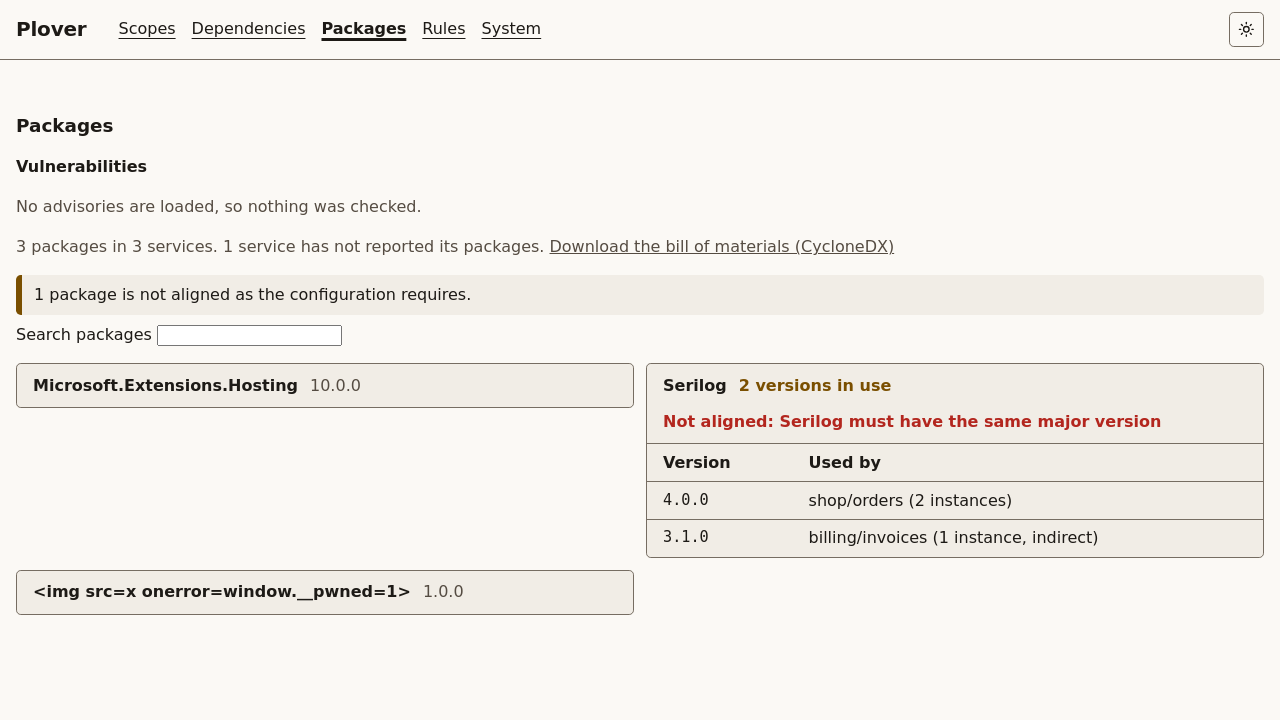
Test: the packages view › says so when nothing matches the search
Type "zzz" into the search field labelled "Search packages" at (250, 336), box [157,325,342,346]
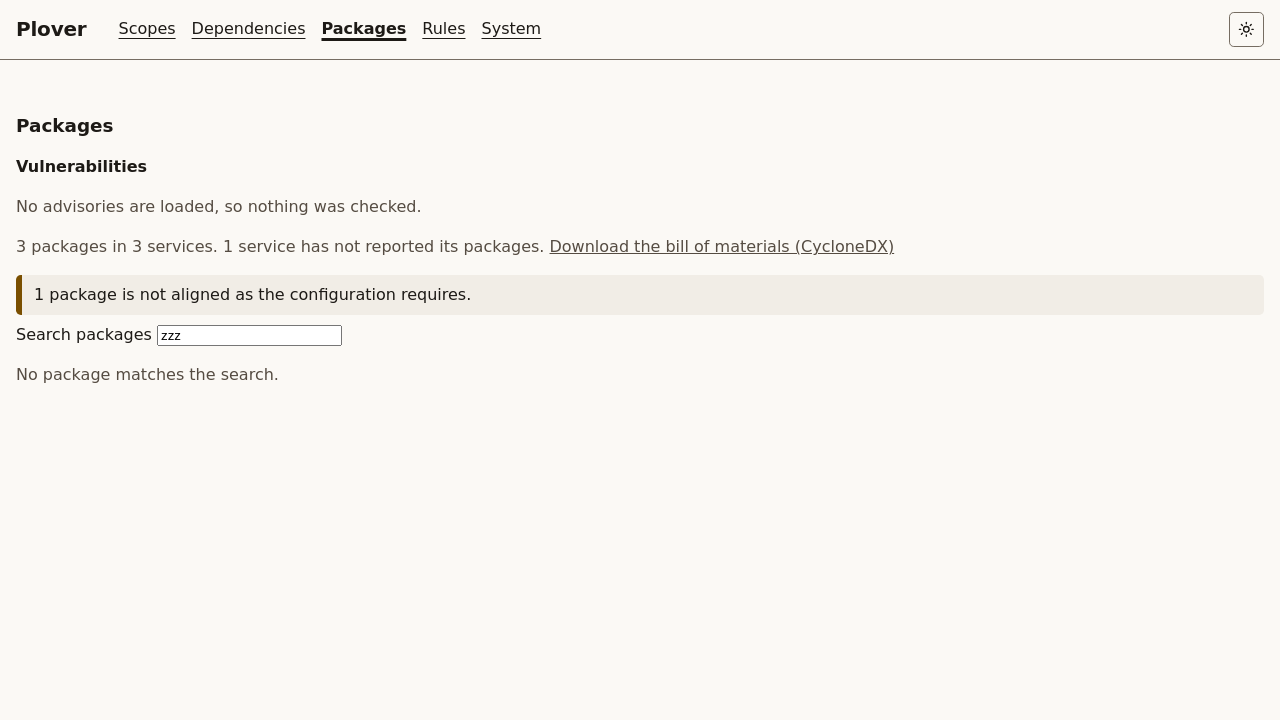
Expected: the element that starts with "Packages" shows "No package matches the search.", [16,365,279,384]
